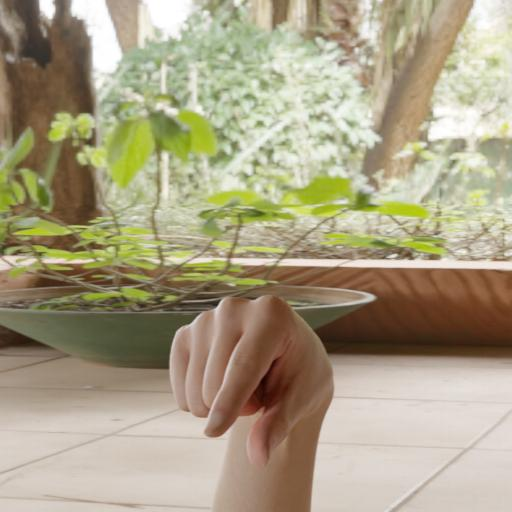Q: (154, 288, 348, 472)
